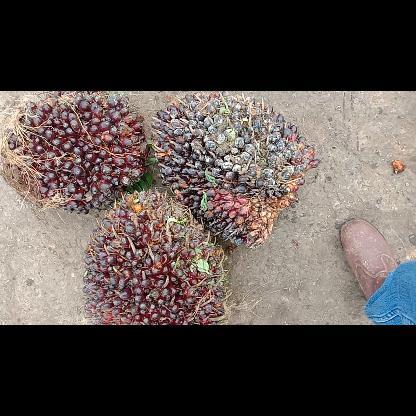Kurang masak: (83, 190, 231, 324), (0, 91, 146, 215)
TBS mentah: (153, 91, 317, 247)
